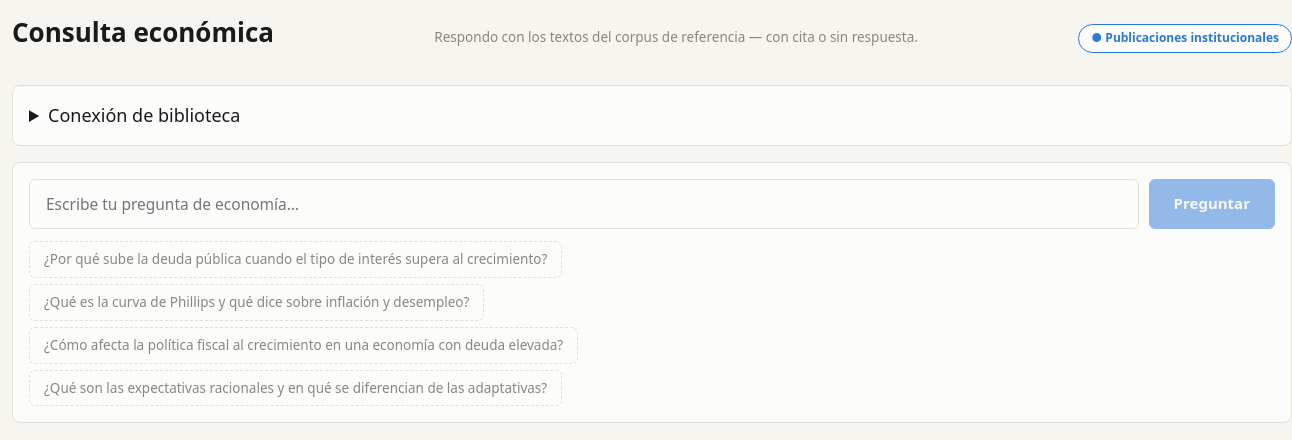
Test: Consulta — el Space se está reiniciando al preguntar › un 502 del proxy no llega a la pantalla: se reintenta y llega la respuesta
Type "¿Cómo responde la actividad?" into the field named "Pregunta económica" at {"x": 584, "y": 204}, box x1=29 y1=180 x2=1139 y2=229
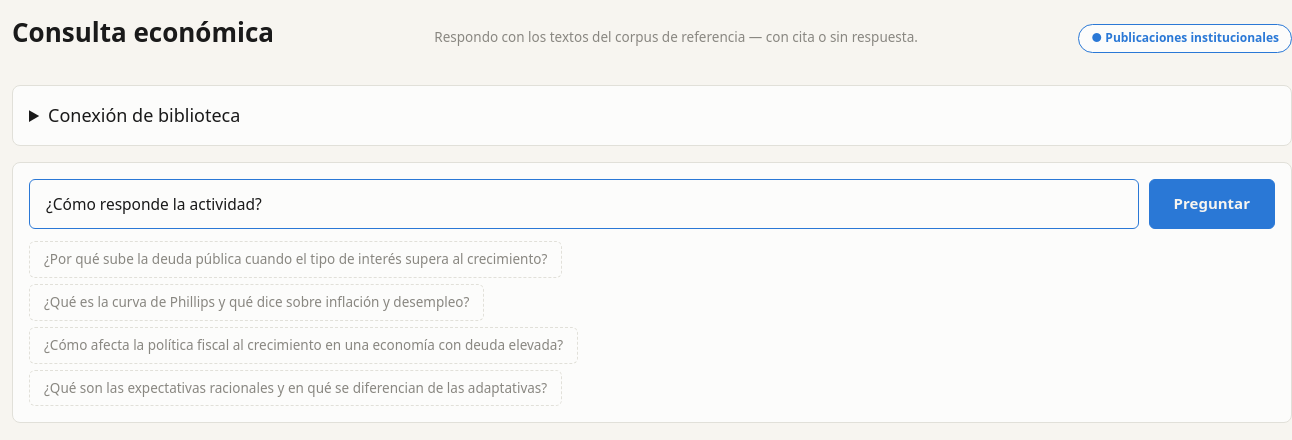
Click the button "Preguntar" at {"x": 1212, "y": 204}, box x1=1149 y1=180 x2=1275 y2=229
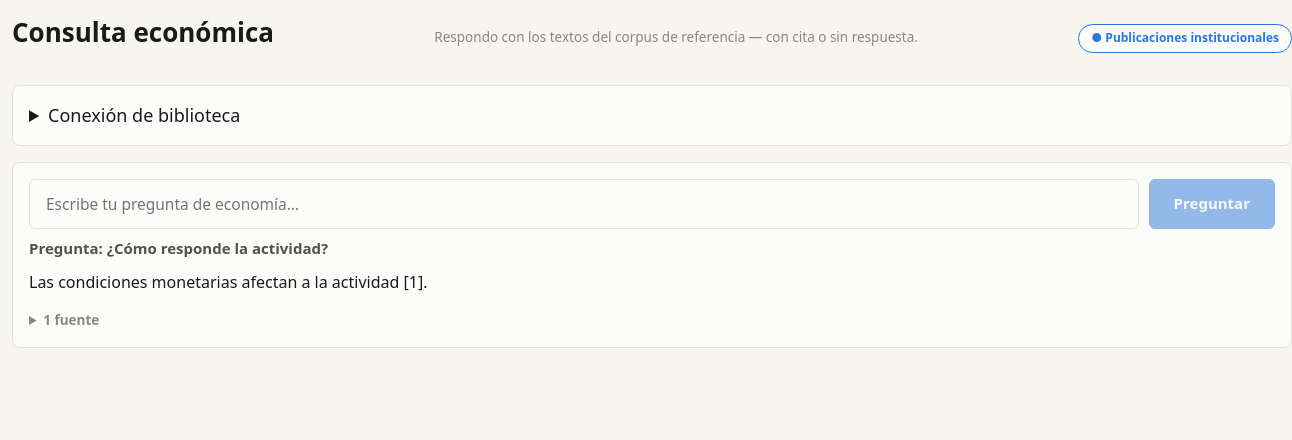
Result: the text "Las condiciones monetarias afectan a la actividad [1]." is shown at x1=29 y1=271 x2=428 y2=293
